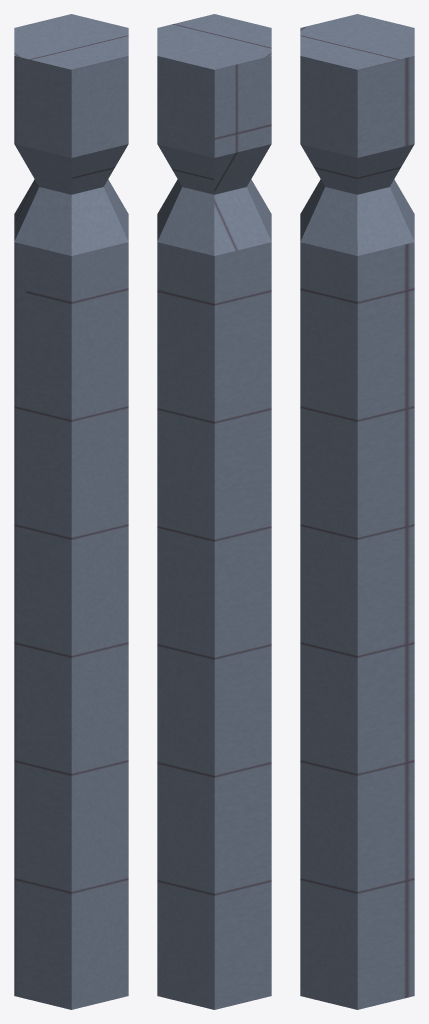
The model's file is Pole.fbx.
The picture shows the model from 3 angles, left to right: view 1: azimuth 30°, elevation 25°; view 2: azimuth 150°, elevation 25°; view 3: azimuth 330°, elevation 25°; orthographic projection.
Parts seen in each view (by area): view 1: Pole; view 2: Pole; view 3: Pole.
Boxes of the visible parts, bbox=[...] form: Pole: bbox=[14, 14, 128, 1009]; Pole: bbox=[157, 14, 271, 1009]; Pole: bbox=[300, 14, 414, 1009].
Size of the model in its own units: 0.3335 by 2.62 by 0.2888.
